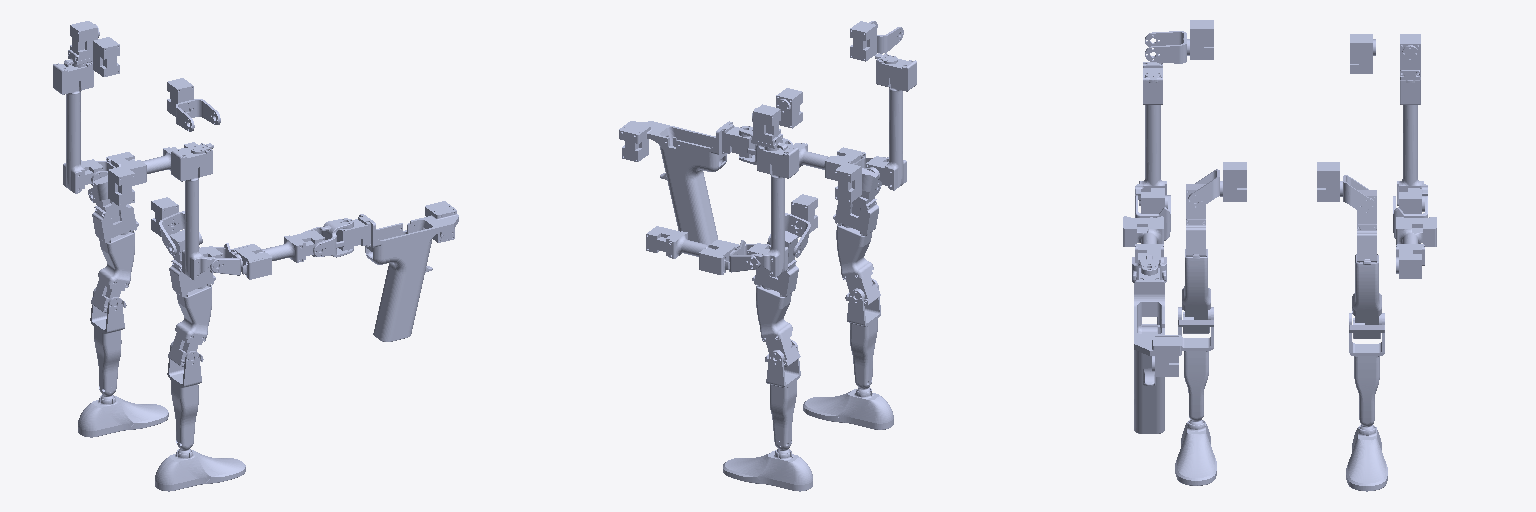
--- What the picture shows (computed from the rendered views, not written in the file) ---
Views: 3 orthographic renders of the robot side by side, from view 1: azimuth 30°, elevation 25°; view 2: azimuth 150°, elevation 25°; view 3: azimuth 270°, elevation 25°.
Model g1_Light_arm_leader with 33 links and 32 joints (24 revolute, 8 fixed), rooted at torso_link, posed all joints at 0.
Visible links, largest first — view 1: right_arm_link7, right_leg_link4, left_leg_link4, right_arm_link3, left_arm_link3, left_leg_link3, right_leg_link3, right_arm_link5, left_leg_link2, left_arm_link5, right_leg_link2, left_arm_link2 (+8 smaller); view 2: right_arm_link7, right_leg_link4, left_leg_link4, right_arm_link3, left_arm_link3, left_arm_link5, right_leg_link3, left_leg_link3, right_leg_link2, left_arm_link2, left_leg_link2, right_arm_link5 (+6 smaller); view 3: right_arm_link7, left_leg_link4, right_leg_link4, right_arm_link3, left_arm_link3, left_leg_link3, right_leg_link3, left_arm_link5, right_arm_link5, right_arm_link1, left_leg_link2, right_leg_link2 (+8 smaller).
Boxes of the visible links, box(x1,y1,x2,y2) form: right_arm_link7: box(336, 201, 458, 341); right_leg_link4: box(155, 341, 245, 491); left_leg_link4: box(78, 288, 168, 437); right_arm_link3: box(171, 143, 222, 280); left_arm_link3: box(53, 61, 103, 193); left_leg_link3: box(91, 231, 134, 312); right_leg_link3: box(168, 285, 211, 366); right_arm_link5: box(231, 230, 324, 279); left_leg_link2: box(92, 175, 138, 242); left_arm_link5: box(106, 142, 197, 185); right_leg_link2: box(169, 229, 215, 296); left_arm_link2: box(64, 21, 99, 66); right_arm_link7: box(619, 121, 754, 244); right_leg_link4: box(803, 278, 893, 429); left_leg_link4: box(723, 340, 812, 491); right_arm_link3: box(866, 53, 916, 190); left_arm_link3: box(747, 145, 798, 277); left_arm_link5: box(646, 226, 739, 274); right_leg_link3: box(836, 224, 880, 305); left_leg_link3: box(756, 285, 800, 366); right_leg_link2: box(833, 168, 878, 235); left_arm_link2: box(751, 104, 787, 150); left_leg_link2: box(752, 231, 798, 296); right_arm_link5: box(781, 139, 865, 180); right_arm_link7: box(1134, 268, 1181, 433); left_leg_link4: box(1346, 313, 1387, 491); right_leg_link4: box(1175, 307, 1216, 485); right_arm_link3: box(1135, 62, 1167, 213); left_arm_link3: box(1397, 80, 1427, 213); left_leg_link3: box(1349, 254, 1384, 338); right_leg_link3: box(1178, 249, 1213, 333); left_arm_link5: box(1396, 217, 1436, 278); right_arm_link5: box(1123, 216, 1163, 262); right_arm_link1: box(1145, 31, 1186, 63); left_leg_link2: box(1357, 190, 1376, 264); right_leg_link2: box(1186, 184, 1205, 258).
Bounding box of the posed robot: 0.3466 × 0.3078 × 0.4709 m (x, y, z).
Meshes: 25 distinct files referenced, 22 mesh visuals loaded (19 binary STL); not drawn: 7 (reference not matched to a file when rendering).

robot.urdf — g1_Light_arm_leader:
<?xml version="1.0" ?>
<!-- =================================================================================== -->
<!-- |    This document was autogenerated by xacro from g1_baby.xacro                  | -->
<!-- |    EDITING THIS FILE BY HAND IS NOT RECOMMENDED                                 | -->
<!-- =================================================================================== -->
<robot name="g1_Light_arm_leader">
	<mujoco>
		<compiler angle="radian" meshdir="../" autolimits="true" strippath="false" fusestatic="false" balanceinertia="true"/>
	</mujoco>	
  <!-- Link intertia values are incorrect for links 3 and 4 -->
  <link name="left_arm_base_link">
    <inertial>
      <origin rpy="0 0 0" xyz="0.00000000 -0.01230125 0.00718113"/>
      <mass value="0.01800000"/>
      <inertia ixx="0.00000626" ixy="0.00000000" ixz="0.00000000" iyy="0.00000323" iyz="-0.00000155" izz="0.00000412"/>
    </inertial>
    <visual>
      <origin rpy="0 0 0" xyz="0 0 0"/>
      <geometry>
        <mesh filename="assets/leaders/baby/base_link_L.STL"/>
      </geometry>
      <material name="">
        <color rgba="0.79216 0.81961 0.93333 1"/>
      </material>
    </visual>
    <collision>
      <origin rpy="0 0 0" xyz="0 0 0"/>
      <geometry>
        <mesh filename="assets/leaders/baby/base_link_L.STL"/>
      </geometry>
    </collision>
  </link>
  <link name="left_arm_link1">
    <inertial>
      <origin rpy="0 0 0" xyz="0.01387236 0.00000000 0.00000273"/>
      <mass value="0.00630282"/>
      <inertia ixx="1.16E-06" ixy="0" ixz="0" iyy="8.8E-06" iyz="0" izz="2.72E-06"/>
    </inertial>
    <visual>
      <origin rpy="0 0 0" xyz="0 0 0"/>
      <geometry>
        <mesh filename="assets/leaders/baby/g1_arm_link_1_L.STL"/>
      </geometry>
      <material name="">
        <color rgba="0.79216 0.81961 0.93333 1"/>
      </material>
    </visual>
    <collision>
      <origin rpy="0 0 0" xyz="0 0 0"/>
      <geometry>
        <mesh filename="assets/leaders/baby/g1_arm_link_1_L.STL"/>
      </geometry>
    </collision>
  </link>
  <link name="left_arm_link2">
    <inertial>
      <origin rpy="0 0 0" xyz="0 -0.00345697 -0.00992158"/>
      <mass value="0.02099123"/>
      <inertia ixx="0.00000622" ixy="0" ixz="0" iyy="0.00000544" iyz="0.00000087" izz="0.00000207"/>
    </inertial>
    <visual>
      <origin rpy="0 0 0" xyz="0 0 0"/>
      <geometry>
        <mesh filename="assets/leaders/baby/g1_arm_link_2_L.STL"/>
      </geometry>
      <material name="">
        <color rgba="0.79216 0.81961 0.93333 1"/>
      </material>
    </visual>
    <collision>
      <origin rpy="0 0 0" xyz="0 0 0"/>
      <geometry>
        <mesh filename="assets/leaders/baby/g1_arm_link_2_L.STL"/>
      </geometry>
    </collision>
  </link>
  <link name="left_arm_link3">

    <visual>
      <origin rpy="0 0 0" xyz="0 0 0"/>
      <geometry>
        <mesh filename="assets/leaders/baby/g1_arm_link_3_L.STL"/>
      </geometry>
      <material name="">
        <color rgba="0.79216 0.81961 0.93333 1"/>
      </material>
    </visual>
    <collision>
      <origin rpy="0 0 0" xyz="0 0 0"/>
      <geometry>
        <mesh filename="assets/leaders/baby/g1_arm_link_3_L.STL"/>
      </geometry>
    </collision>
  </link>
  <link name="left_arm_link4">

    <visual>
      <origin rpy="0 0 0" xyz="0 0 0"/>
      <geometry>
        <mesh filename="assets/leaders/baby/g1_arm_link_4_L.STL"/>
      </geometry>
      <material name="">
        <color rgba="0.79216 0.81961 0.93333 1"/>
      </material>
    </visual>
    <collision>
      <origin rpy="0 0 0" xyz="0 0 0"/>
      <geometry>
        <mesh filename="assets/leaders/baby/g1_arm_link_4_L.STL"/>
      </geometry>
    </collision>
  </link>
  <link name="left_arm_link5">
    <inertial>
      <origin rpy="0 0 0" xyz="0.04583889 -0.00415733 0.00000000"/>
      <mass value="0.05392167"/>
      <inertia ixx="0.00000769" ixy="-0.00000538" ixz="0.00000000" iyy="0.00017195" iyz="0.00000000" izz="0.00017659"/>
    </inertial>
    <visual>
      <origin rpy="0 0 0" xyz="0 0 0"/>
      <geometry>
        <mesh filename="assets/leaders/baby/g1_arm_link_5_L.STL"/>
      </geometry>
      <material name="">
        <color rgba="0.79216 0.81961 0.93333 1"/>
      </material>
    </visual>
    <collision>
      <origin rpy="0 0 0" xyz="0 0 0"/>
      <geometry>
        <mesh filename="assets/leaders/baby/g1_arm_link_5_L.STL"/>
      </geometry>
    </collision>
  </link>
  <link name="left_arm_link6">
    <inertial>
      <origin rpy="0 0 0" xyz="0.02038055 -0.00000138 -0.00000112"/>
      <mass value=" 0.01167564"/>
      <inertia ixx="0.00000248" ixy="0.00000000" ixz="0.00000000" iyy="0.00000737" iyz="0.00000000" izz="0.00000741"/>
    </inertial>
    <visual>
      <origin rpy="0 0 0" xyz="0 0 0"/>
      <geometry>
        <mesh filename="assets/leaders/baby/g1_arm_link_6_L.STL"/>
      </geometry>
      <material name="">
        <color rgba="0.79216 0.81961 0.93333 1"/>
      </material>
    </visual>
    <collision>
      <origin rpy="0 0 0" xyz="0 0 0"/>
      <geometry>
        <mesh filename="assets/leaders/baby/g1_arm_link_6_L.STL"/>
      </geometry>
    </collision>
  </link>
  <link name="left_arm_link7">
    <inertial>
      <origin rpy="0 0 0" xyz="0.06890215 0.00304461 -0.04175166"/>
      <mass value="0.1095606"/>
      <inertia ixx="0.00036318" ixy="0.00004247" ixz="-0.00033149" iyy="0.00105228" iyz="-0.00000788" izz="0.00072013"/>
    </inertial>
    <visual>
      <origin rpy="0 0 0" xyz="0 0 0"/>
      <geometry>
        <mesh filename="assets/leaders/baby/g1_arm_link_7_L.STL"/>
      </geometry>
      <material name="">
        <color rgba="0.79216 0.81961 0.93333 1"/>
      </material>
    </visual>
    <collision>
      <origin rpy="0 0 0" xyz="0 0 0"/>
      <geometry>
        <mesh filename="assets/leaders/baby/g1_arm_link_7_L.STL"/>
      </geometry>
    </collision>
  </link>
  
  <joint name="left_shoulder_pitch_joint" type="revolute">
    <origin rpy="0 0 -3.1415926535" xyz="0 0.026 0"/>
    <parent link="left_arm_base_link"/>
    <child link="left_arm_link1"/>
    <axis xyz="0 -1 0"/>
    <limit effort="0" lower="-3.0892" upper="2.6704" velocity="1.0"/>
  </joint>
  <joint name="left_shoulder_roll_joint" type="revolute">
    <origin rpy="0 0 3.1415926" xyz="-0.00415 -0.03339492 0"/>
    <parent link="left_arm_link1"/>
    <child link="left_arm_link2"/>
    <axis xyz="1 0 0"/>
    <limit effort="0" lower="-1.5882" upper="2.2515" velocity="1.0"/>
  </joint>
  <joint name="left_shoulder_yaw_joint" type="revolute">
    <origin rpy="0 0 0" xyz="-0.009766 0 -0.031"/>
    <parent link="left_arm_link2"/>
    <child link="left_arm_link3"/>
    <axis xyz="0 0 1"/>
    <limit effort="0" lower="-2.618" upper="2.618" velocity="1.0"/>
  </joint>
  <joint name="left_elbow_joint" type="revolute">
    <origin rpy="0 0 0" xyz="0.0142047 0 -0.1343462"/>
    <parent link="left_arm_link3"/>
    <child link="left_arm_link4"/>
    <axis xyz="0 1 0"/>
    <limit effort="0" lower="-1.0472" upper="2.0944" velocity="1.0"/>
  </joint>
  <joint name="left_wrist_roll_joint" type="revolute">
    <origin rpy="0 0 0" xyz="0.032 -0.001699119 -0.009"/>
    <parent link="left_arm_link4"/>
    <child link="left_arm_link5"/>
    <axis xyz="1 0 0"/>
    <limit effort="0" lower="-1.972222054" upper="1.972222054" velocity="1.0"/>
  </joint>
  <joint name="left_wrist_pitch_joint" type="revolute">
    <origin rpy="0 0 0" xyz="0.09205 -0.00185 0"/>
    <parent link="left_arm_link5"/>
    <child link="left_arm_link6"/>
    <axis xyz="0 1 0"/>
    <limit effort="0" lower="-1.614429558" upper="1.614429558" velocity="1.0"/>
  </joint>
  <joint name="left_wrist_yaw_joint" type="revolute">
    <origin rpy="0 0 0" xyz="0.0414 0 0.0043"/>
    <parent link="left_arm_link6"/>
    <child link="left_arm_link7"/>
    <axis xyz="0 0 1"/>
    <limit effort="0" lower="-1.614429558" upper="1.614429558" velocity="1.0"/>
  </joint>
  
  <joint name="left/gripper" type="revolute">
    <parent link="left_arm_link7"/>
    <child link="left_gripper_link"/>
    <origin rpy="0 0 -1.57" xyz="0.125 0 -0.03"/>
    <axis xyz="1 0 0"/>
    <limit effort="1" lower="-3.14159265359" upper="3.14159265359" velocity="4.8"/>
  </joint>
  <link name="left_gripper_link">
    <visual>
      <origin rpy="0 0 0" xyz="0 0 0"/>
      <geometry>
        <mesh filename="assets/leaders/baby/gripper.stl" scale="0.001 0.001 0.001"/>
      </geometry>
    </visual>
    <collision>
      <origin rpy="0 0 0" xyz="0 0 0"/>
      <geometry>
        <mesh filename="assets/leaders/baby/gripper.stl" scale="0.001 0.001 0.001"/>
      </geometry>
    </collision>
    <inertial>
      <origin xyz="-2.635467700e-04 -2.054786700e-03 -8.785326800e-03"/>
      <mass value="4.060915900e-03"/>
      <inertia ixx="7.509344100e-07" ixy="2.199112900e-09" ixz="9.402416300e-09" iyy="5.484008000e-07" iyz="-9.942781800e-08" izz="2.396226600e-07"/>
    </inertial>
  </link>
    <joint name="left_eef_joint" type="fixed">
    <parent link="left_arm_link7"/>
    <child link="left_end_effector_link"/>
    <origin rpy="0 0 0.0" xyz="0.025 0 0.00"/>
    <axis xyz="1 0 0"/>
  </joint>
  <link name="left_end_effector_link"/>
  <link name="right_arm_base_link">
    <inertial>
      <origin rpy="0 0 0" xyz="0.00000000 -0.01230125 0.00718113"/>
      <mass value="0.01800000"/>
      <inertia ixx="0.00000626" ixy="0.00000000" ixz="0.00000000" iyy="0.00000323" iyz="-0.00000155" izz="0.00000412"/>
    </inertial>
    <visual>
      <origin rpy="0 0 0" xyz="0 0 0"/>
      <geometry>
        <mesh filename="assets/leaders/baby/base_link_R.STL"/>
      </geometry>
      <material name="">
        <color rgba="0.79216 0.81961 0.93333 1"/>
      </material>
    </visual>
    <collision>
      <origin rpy="0 0 0" xyz="0 0 0"/>
      <geometry>
        <mesh filename="assets/leaders/baby/base_link_R.STL"/>
      </geometry>
    </collision>
  </link>
  <link name="right_arm_link1">
    <inertial>
      <origin rpy="0 0 0" xyz="0.01387236 0.00000000 0.00000273"/>
      <mass value="0.00630282"/>
      <inertia ixx="1.16E-06" ixy="0" ixz="0" iyy="8.8E-06" iyz="0" izz="2.72E-06"/>
    </inertial>
    <visual>
      <origin rpy="0 0 0" xyz="0 0 0"/>
      <geometry>
        <mesh filename="assets/leaders/baby/g1_arm_link_1_R.STL"/>
      </geometry>
      <material name="">
        <color rgba="0.79216 0.81961 0.93333 1"/>
      </material>
    </visual>
    <collision>
      <origin rpy="0 0 0" xyz="0 0 0"/>
      <geometry>
        <mesh filename="assets/leaders/baby/g1_arm_link_1_R.STL"/>
      </geometry>
    </collision>
  </link>
  <link name="right_arm_link2">
    <inertial>
      <origin rpy="0 0 0" xyz="0 -0.00345697 -0.00992158"/>
      <mass value="0.02099123"/>
      <inertia ixx="0.00000622" ixy="0" ixz="0" iyy="0.00000544" iyz="0.00000087" izz="0.00000207"/>
    </inertial>
    <visual>
      <origin rpy="0 0 0" xyz="0 0 0"/>
      <geometry>
        <mesh filename="assets/leaders/baby/g1_arm_link_2_R.STL"/>
      </geometry>
      <material name="">
        <color rgba="0.79216 0.81961 0.93333 1"/>
      </material>
    </visual>
    <collision>
      <origin rpy="0 0 0" xyz="0 0 0"/>
      <geometry>
        <mesh filename="assets/leaders/baby/g1_arm_link_2_R.STL"/>
      </geometry>
    </collision>
  </link>
  <link name="right_arm_link3">
    <inertial>
      <origin rpy="0 0 0" xyz="-0.00311665 0.00003705 -0.0729065"/>
      <mass value="0.06865114"/>
      <inertia ixx="0.00055336" ixy="0.00000013" ixz="0.00000199" iyy="0.00056033" iyz="0.0" izz="0.00001178"/>
    </inertial>
    <visual>
      <origin rpy="0 0 0" xyz="0 0 0"/>
      <geometry>
        <mesh filename="assets/leaders/baby/g1_arm_link_3_R.STL"/>
      </geometry>
      <material name="">
        <color rgba="0.79216 0.81961 0.93333 1"/>
      </material>
    </visual>
    <collision>
      <origin rpy="0 0 0" xyz="0 0 0"/>
      <geometry>
        <mesh filename="assets/leaders/baby/g1_arm_link_3_R.STL"/>
      </geometry>
    </collision>
  </link>
  <link name="right_arm_link4">
    <inertial>
      <origin rpy="0 0 0" xyz="0.01902443 0.00064065 -0.00588890"/>
      <mass value="0.00704644"/>
      <inertia ixx="0.00000188" ixy="0.00000012" ixz="-0.0000010" iyy="0.00000398" iyz="-0.0000000" izz="0.00000471"/>
    </inertial>
    <visual>
      <origin rpy="0 0 0" xyz="0 0 0"/>
      <geometry>
        <mesh filename="assets/leaders/baby/g1_arm_link_4_R.STL"/>
      </geometry>
      <material name="">
        <color rgba="0.79216 0.81961 0.93333 1"/>
      </material>
    </visual>
    <collision>
      <origin rpy="0 0 0" xyz="0 0 0"/>
      <geometry>
        <mesh filename="assets/leaders/baby/g1_arm_link_4_R.STL"/>
      </geometry>
    </collision>
  </link>
  <link name="right_arm_link5">
    <inertial>
      <origin rpy="0 0 0" xyz="0.04583889 -0.00415733 0.00000000"/>
      <mass value="0.05392167"/>
      <inertia ixx="0.00000769" ixy="-0.00000538" ixz="0.00000000" iyy="0.00017195" iyz="0.00000000" izz="0.00017659"/>
    </inertial>
    <visual>
      <origin rpy="0 0 0" xyz="0 0 0"/>
      <geometry>
        <mesh filename="assets/leaders/baby/g1_arm_link_5_R.STL"/>
      </geometry>
      <material name="">
        <color rgba="0.79216 0.81961 0.93333 1"/>
      </material>
    </visual>
    <collision>
      <origin rpy="0 0 0" xyz="0 0 0"/>
      <geometry>
        <mesh filename="assets/leaders/baby/g1_arm_link_5_R.STL"/>
      </geometry>
    </collision>
  </link>
  <link name="right_arm_link6">
    <inertial>
      <origin rpy="0 0 0" xyz="0.02038055 -0.00000138 -0.00000112"/>
      <mass value=" 0.01167564"/>
      <inertia ixx="0.00000248" ixy="0.00000000" ixz="0.00000000" iyy="0.00000737" iyz="0.00000000" izz="0.00000741"/>
    </inertial>
    <visual>
      <origin rpy="0 0 0" xyz="0 0 0"/>
      <geometry>
        <mesh filename="assets/leaders/baby/g1_arm_link_6_R.STL"/>
      </geometry>
      <material name="">
        <color rgba="0.79216 0.81961 0.93333 1"/>
      </material>
    </visual>
    <collision>
      <origin rpy="0 0 0" xyz="0 0 0"/>
      <geometry>
        <mesh filename="assets/leaders/baby/g1_arm_link_6_R.STL"/>
      </geometry>
    </collision>
  </link>
  <link name="right_arm_link7">
    <inertial>
      <origin rpy="0 0 0" xyz="0.06890215 0.00304461 -0.04175166"/>
      <mass value="0.1095606"/>
      <inertia ixx="0.00036318" ixy="0.00004247" ixz="-0.00033149" iyy="0.00105228" iyz="-0.00000788" izz="0.00072013"/>
    </inertial>
    <visual>
      <origin rpy="0 0 0" xyz="0 0 0"/>
      <geometry>
        <mesh filename="assets/leaders/baby/g1_arm_link_7_R.STL"/>
      </geometry>
      <material name="">
        <color rgba="0.79216 0.81961 0.93333 1"/>
      </material>
    </visual>
    <collision>
      <origin rpy="0 0 0" xyz="0 0 0"/>
      <geometry>
        <mesh filename="assets/leaders/baby/g1_arm_link_7_R.STL"/>
      </geometry>
    </collision>
  </link>
  <joint name="right_eef_joint" type="fixed">
    <parent link="right_arm_link7"/>
    <child link="right_end_effector_link"/>
    <origin rpy="0 0 0.0" xyz="0.025 0 0.00"/>
    <axis xyz="1 0 0"/>
  </joint>
  <link name="right_end_effector_link"/>
  
  <joint name="right/gripper" type="revolute">
    <parent link="right_arm_link7"/>
    <child link="right_gripper_link"/>
    <origin rpy="0 0 -1.57" xyz="0.125 0 -0.03"/>
    <axis xyz="1 0 0"/>
    <limit effort="1" lower="-3.14159265359" upper="3.14159265359" velocity="4.8"/>
  </joint>
  <link name="right_gripper_link">
    <visual>
      <origin rpy="0 0 0" xyz="0 0 0"/>
      <geometry>
        <mesh filename="assets/leaders/baby/gripper.stl" scale="0.001 0.001 0.001"/>
      </geometry>
    </visual>
    <collision>
      <origin rpy="0 0 0" xyz="0 0 0"/>
      <geometry>
        <mesh filename="assets/leaders/baby/gripper.stl" scale="0.001 0.001 0.001"/>
      </geometry>
    </collision>
    <inertial>
      <origin xyz="-2.635467700e-04 -2.054786700e-03 -8.785326800e-03"/>
      <mass value="4.060915900e-03"/>
      <inertia ixx="7.509344100e-07" ixy="2.199112900e-09" ixz="9.402416300e-09" iyy="5.484008000e-07" iyz="-9.942781800e-08" izz="2.396226600e-07"/>
    </inertial>
  </link>
 
  <joint name="right_shoulder_pitch_joint" type="revolute">
    <origin rpy="0 0 0" xyz="0 -0.026 0"/>
    <parent link="right_arm_base_link"/>
    <child link="right_arm_link1"/>
    <axis xyz="0 1 0"/>
    <limit effort="0" lower="-3.0892" upper="2.6704" velocity="1.0"/>
  </joint>
  <joint name="right_shoulder_roll_joint" type="revolute">
    <origin rpy="0 0 0" xyz="0.00415 -0.03339492 0"/>
    <parent link="right_arm_link1"/>
    <child link="right_arm_link2"/>
    <axis xyz="1 0 0"/>
    <limit effort="0" lower="-2.2515" upper="1.5882" velocity="1.0"/>
  </joint>
  <joint name="right_shoulder_yaw_joint" type="revolute">
    <origin rpy="0 0 0" xyz="-0.009766 0 -0.031"/>
    <parent link="right_arm_link2"/>
    <child link="right_arm_link3"/>
    <axis xyz="0 0 1"/>
    <limit effort="0" lower="-2.618" upper="2.618" velocity="1.0"/>
  </joint>
  <joint name="right_elbow_joint" type="revolute">
    <origin rpy="0 0 0" xyz="0.0142047 0 -0.1343462"/>
    <parent link="right_arm_link3"/>
    <child link="right_arm_link4"/>
    <axis xyz="0 1 0"/>
    <limit effort="0" lower="-1.0472" upper="2.0944" velocity="1.0"/>
  </joint>
  <joint name="right_wrist_roll_joint" type="revolute">
    <origin rpy="0 0 0" xyz="0.032 -0.001699119 -0.009"/>
    <parent link="right_arm_link4"/>
    <child link="right_arm_link5"/>
    <axis xyz="1 0 0"/>
    <limit effort="0" lower="-1.972222054" upper="1.972222054" velocity="1.0"/>
  </joint>
  <joint name="right_wrist_pitch_joint" type="revolute">
    <origin rpy="0 0 0" xyz="0.09205 -0.00185 0"/>
    <parent link="right_arm_link5"/>
    <child link="right_arm_link6"/>
    <axis xyz="0 1 0"/>
    <limit effort="0" lower="-1.614429558" upper="1.614429558" velocity="1.0"/>
  </joint>
  <joint name="right_wrist_yaw_joint" type="revolute">
    <origin rpy="0 0 0" xyz="0.0414 0 0.0043"/>
    <parent link="right_arm_link6"/>
    <child link="right_arm_link7"/>
    <axis xyz="0 0 1"/>
    <limit effort="0" lower="-1.614429558" upper="1.614429558" velocity="1.0"/>
  </joint>
  <link name="left_leg_base_link">
    <inertial>
      <origin rpy="0 0 0" xyz="0.00000000 0.00319875 0.00118113"/>
      <mass value="0.01800000"/>
      <inertia ixx="0.00000281" ixy="0.00000000" ixz="0.00000000" iyy="0.00000233" iyz="0.00000011" izz="0.00000158"/>
    </inertial>
    <visual>
      <origin rpy="0 0 0" xyz="0 0 0"/>
      <geometry>
        <mesh filename="assets/leaders/baby/g1_leg_base_link_L.STL"/>
      </geometry>
      <material name="">
        <color rgba="0.79216 0.81961 0.93333 1"/>
      </material>
    </visual>
    <collision>
      <origin rpy="0 0 0" xyz="0 0 0"/>
      <geometry>
        <mesh filename="assets/leaders/baby/g1_leg_base_link_L.STL"/>
      </geometry>
    </collision>
  </link>
  <link name="left_leg_link1">
    <inertial>
      <origin rpy="0 0 0" xyz="0.01016296 0.00000000 -0.00475105"/>
      <mass value="0.00543603"/>
      <inertia ixx="0.00000145" ixy="0.00000000" ixz="-0.00000050" iyy="0.00000142" iyz="0.00000000" izz="0.00000201"/>
    </inertial>
    <visual>
      <origin rpy="0 0 0" xyz="0 0 0"/>
      <geometry>
        <mesh filename="assets/leaders/baby/g1_leg_link_1_L.STL"/>
      </geometry>
      <material name="">
        <color rgba="0.79216 0.81961 0.93333 1"/>
      </material>
    </visual>
    <collision>
      <origin rpy="0 0 0" xyz="0 0 0"/>
      <geometry>
        <mesh filename="assets/leaders/baby/g1_leg_link_1_L.STL"/>
      </geometry>
    </collision>
  </link>
  <link name="left_leg_link2">
    <inertial>
      <origin rpy="0 0 0" xyz="-0.00272858 0.00000000 -0.02683543"/>
      <mass value=" 0.04516848"/>
      <inertia ixx="0.00004938" ixy="0.00000000" ixz="0.00000294" iyy="0.00005307" iyz="0.00000000" izz="0.00000644"/>
    </inertial>
    <visual>
      <origin rpy="0 0 0" xyz="0 0 0"/>
      <geometry>
        <mesh filename="assets/leaders/baby/g1_leg_link_2.STL"/>
      </geometry>
      <material name="">
        <color rgba="0.79216 0.81961 0.93333 1"/>
      </material>
    </visual>
    <collision>
      <origin rpy="0 0 0" xyz="0 0 0"/>
      <geometry>
        <mesh filename="assets/leaders/baby/g1_leg_link_2.STL"/>
      </geometry>
    </collision>
  </link>
  <link name="left_leg_link3">
    <inertial>
      <origin rpy="0 0 0" xyz="-0.01621315 0.00022419 -0.04019605"/>
      <mass value=" 0.06431956"/>
      <inertia ixx="0.00014459" ixy="-0.00000042" ixz="0.00005475" iyy="0.00016734" iyz="-0.00000097" izz="0.00002911"/>
    </inertial>
    <visual>
      <origin rpy="0 0 0" xyz="0 0 0"/>
      <geometry>
        <mesh filename="assets/leaders/baby/g1_leg_link_3.STL"/>
      </geometry>
      <material name="">
        <color rgba="0.79216 0.81961 0.93333 1"/>
      </material>
    </visual>
    <collision>
      <origin rpy="0 0 0" xyz="0 0 0"/>
      <geometry>
        <mesh filename="assets/leaders/baby/g1_leg_link_3.STL"/>
      </geometry>
    </collision>
  </link>
  <link name="left_leg_link4">
    <inertial>
      <origin rpy="0 0 0" xyz="0.00853367 0.00001551 -0.11066266"/>
      <mass value="0.12585466"/>
      <inertia ixx="0.00178709" ixy="0.00000002" ixz="-0.00015479" iyy="0.00184613" iyz="-0.00000026" izz="0.00007683"/>
    </inertial>
    <visual>
      <origin rpy="0 0 0" xyz="0 0 0"/>
      <geometry>
        <mesh filename="assets/leaders/baby/g1_leg_link_4.STL"/>
      </geometry>
      <material name="">
        <color rgba="0.79216 0.81961 0.93333 1"/>
      </material>
    </visual>
    <collision>
      <origin rpy="0 0 0" xyz="0 0 0"/>
      <geometry>
        <mesh filename="assets/leaders/baby/g1_leg_link_4.STL"/>
      </geometry>
    </collision>
  </link>
  <joint name="left_hip_pitch_joint" type="revolute">
    <origin rpy="0 0 0" xyz="0 0.0105 0"/>
    <parent link="left_leg_base_link"/>
    <child link="left_leg_link1"/>
    <axis xyz="0 1 0"/>
    <limit effort="0" lower="-2.5307" upper="2.8798" velocity="1.0"/>
  </joint>
  <joint name="left_hip_roll_joint" type="revolute">
    <origin rpy="0 -0.1749 0" xyz="0.00845606 0.0234 -0.01150819"/>
    <parent link="left_leg_link1"/>
    <child link="left_leg_link2"/>
    <axis xyz="1 0 0"/>
    <limit effort="0" lower="-0.5236" upper="2.9671" velocity="1.0"/>
  </joint>
  <joint name="left_hip_yaw_joint" type="revolute">
    <origin rpy="0 0 0" xyz="0.00486790801 0 -0.055854"/>
    <parent link="left_leg_link2"/>
    <child link="left_leg_link3"/>
    <axis xyz="0 0 1"/>
    <limit effort="0" lower="-2.7576" upper="2.7576" velocity="1.0"/>
  </joint>
  <joint name="left_knee_joint" type="revolute">
    <origin rpy="0 0.1749 0" xyz="-0.0313092 0 -0.070936"/>
    <parent link="left_leg_link3"/>
    <child link="left_leg_link4"/>
    <axis xyz="0 1 0"/>
    <limit effort="0" lower="-0.087267" upper="2.8798" velocity="1.0"/>
  </joint>
  
  <joint name="left_ankle_joint" type="fixed">
    <origin rpy="0 0 0" xyz="0.0 0 -0.120"/>
    <parent link="left_leg_link4"/>
    <child link="left_ankle_link"/>
    <axis xyz="0 1 0"/>
  </joint>
  <link name="left_ankle_link"/>
  
  <link name="right_leg_base_link">
    <inertial>
      <origin rpy="0 0 0" xyz="0.00000000 0.00319875 0.00118113"/>
      <mass value="0.01800000"/>
      <inertia ixx="0.00000281" ixy="0.00000000" ixz="0.00000000" iyy="0.00000233" iyz="0.00000011" izz="0.00000158"/>
    </inertial>
    <visual>
      <origin rpy="0 0 0" xyz="0 0 0"/>
      <geometry>
        <mesh filename="assets/leaders/baby/g1_leg_base_link.STL"/>
      </geometry>
      <material name="">
        <color rgba="0.79216 0.81961 0.93333 1"/>
      </material>
    </visual>
    <collision>
      <origin rpy="0 0 0" xyz="0 0 0"/>
      <geometry>
        <mesh filename="assets/leaders/baby/g1_leg_base_link.STL"/>
      </geometry>
    </collision>
  </link>
  <link name="right_leg_link1">
    <inertial>
      <origin rpy="0 0 0" xyz="0.01016296 0.00000000 -0.00475105"/>
      <mass value="0.00543603"/>
      <inertia ixx="0.00000145" ixy="0.00000000" ixz="-0.00000050" iyy="0.00000142" iyz="0.00000000" izz="0.00000201"/>
    </inertial>
    <visual>
      <origin rpy="0 0 0" xyz="0 0 0"/>
      <geometry>
        <mesh filename="assets/leaders/baby/g1_leg_link_1.STL"/>
      </geometry>
      <material name="">
        <color rgba="0.79216 0.81961 0.93333 1"/>
      </material>
    </visual>
    <collision>
      <origin rpy="0 0 0" xyz="0 0 0"/>
      <geometry>
        <mesh filename="assets/leaders/baby/g1_leg_link_1.STL"/>
      </geometry>
    </collision>
  </link>
  <link name="right_leg_link2">
    <inertial>
      <origin rpy="0 0 0" xyz="-0.00272858 0.00000000 -0.02683543"/>
      <mass value=" 0.04516848"/>
      <inertia ixx="0.00004938" ixy="0.00000000" ixz="0.00000294" iyy="0.00005307" iyz="0.00000000" izz="0.00000644"/>
    </inertial>
    <visual>
      <origin rpy="0 0 0" xyz="0 0 0"/>
      <geometry>
        <mesh filename="assets/leaders/baby/g1_leg_link_2.STL"/>
      </geometry>
      <material name="">
        <color rgba="0.79216 0.81961 0.93333 1"/>
      </material>
    </visual>
    <collision>
      <origin rpy="0 0 0" xyz="0 0 0"/>
      <geometry>
        <mesh filename="assets/leaders/baby/g1_leg_link_2.STL"/>
      </geometry>
    </collision>
  </link>
  <link name="right_leg_link3">
    <inertial>
      <origin rpy="0 0 0" xyz="-0.01621315 0.00022419 -0.04019605"/>
      <mass value=" 0.06431956"/>
      <inertia ixx="0.00014459" ixy="-0.00000042" ixz="0.00005475" iyy="0.00016734" iyz="-0.00000097" izz="0.00002911"/>
    </inertial>
    <visual>
      <origin rpy="0 0 0" xyz="0 0 0"/>
      <geometry>
        <mesh filename="assets/leaders/baby/g1_leg_link_3.STL"/>
      </geometry>
      <material name="">
        <color rgba="0.79216 0.81961 0.93333 1"/>
      </material>
    </visual>
    <collision>
      <origin rpy="0 0 0" xyz="0 0 0"/>
      <geometry>
        <mesh filename="assets/leaders/baby/g1_leg_link_3.STL"/>
      </geometry>
    </collision>
  </link>
  <link name="right_leg_link4">
    <inertial>
      <origin rpy="0 0 0" xyz="0.00853367 0.00001551 -0.11066266"/>
      <mass value="0.12585466"/>
      <inertia ixx="0.00178709" ixy="0.00000002" ixz="-0.00015479" iyy="0.00184613" iyz="-0.00000026" izz="0.00007683"/>
    </inertial>
    <visual>
      <origin rpy="0 0 0" xyz="0 0 0"/>
      <geometry>
        <mesh filename="assets/leaders/baby/g1_leg_link_4.STL"/>
      </geometry>
      <material name="">
        <color rgba="0.79216 0.81961 0.93333 1"/>
      </material>
    </visual>
    <collision>
      <origin rpy="0 0 0" xyz="0 0 0"/>
      <geometry>
        <mesh filename="assets/leaders/baby/g1_leg_link_4.STL"/>
      </geometry>
    </collision>
  </link>
  <joint name="right_hip_pitch_joint" type="revolute">
    <origin rpy="0 0 0" xyz="0 -0.0106 0"/>
    <parent link="right_leg_base_link"/>
    <child link="right_leg_link1"/>
    <axis xyz="0 1 0"/>
    <limit effort="0" lower="-2.5307" upper="2.8798" velocity="1.0"/>
  </joint>
  <joint name="right_hip_roll_joint" type="revolute">
    <origin rpy="0 -0.1749 0" xyz="0.006324517 -0.0234 -0.01280406227"/>
    <parent link="right_leg_link1"/>
    <child link="right_leg_link2"/>
    <axis xyz="1 0 0"/>
    <limit effort="0" lower="-2.9671" upper="0.5236" velocity="1.0"/>
  </joint>
  <joint name="right_hip_yaw_joint" type="revolute">
    <origin rpy="0 0 0" xyz="0.00486790801 0 -0.055854"/>
    <parent link="right_leg_link2"/>
    <child link="right_leg_link3"/>
    <axis xyz="0 0 1"/>
    <limit effort="0" lower="-2.7576" upper="2.7576" velocity="1.0"/>
  </joint>
  <joint name="right_knee_joint" type="revolute">
    <origin rpy="0 0.1749 0" xyz="-0.0313092 0 -0.070936"/>
    <parent link="right_leg_link3"/>
    <child link="right_leg_link4"/>
    <axis xyz="0 1 0"/>
    <limit effort="0" lower="-0.087267" upper="2.8798" velocity="1.0"/>
  </joint>
  
  <joint name="right_ankle_joint" type="fixed">
    <origin rpy="0 0 0" xyz="0.0 0 -0.120"/>
    <parent link="right_leg_link4"/>
    <child link="right_ankle_link"/>
    <axis xyz="0 1 0"/>
  </joint>
  <link name="right_ankle_link"/>
  
  
  <!-- Link intertia values are incorrect for links 3 and 4 -->
  <link name="torso_link">
    <inertial>
      <origin rpy="0 0 0" xyz="-0.00000241 0.00000895 0.00679686"/>
      <mass value="0.69622769"/>
      <inertia ixx="0.00785059" ixy="0.00000220" ixz="0.00001212" iyy="0.00639537" iyz="-0.00002276" izz="0.00283396"/>
    </inertial>
    <visual>
      <origin rpy="0 0 0" xyz="0 0 0"/>
      <geometry>
        <mesh filename="assets/leaders/baby/torso.stl"/>
      </geometry>
      <material name="">
        <color rgba="0.79216 0.81961 0.93333 1"/>
      </material>
    </visual>
    <collision>
      <origin rpy="0 0 0" xyz="0 0 0"/>
      <geometry>
        <mesh filename="assets/leaders/baby/torso_simple.stl"/>
      </geometry>
    </collision>
  </link>
  <joint name="joint1" type="fixed">
    <origin rpy="0 0 0" xyz="0.000125 -0.067 0.0308"/>
    <parent link="torso_link"/>
    <child link="right_arm_base_link"/>
  </joint>
  <joint name="joint2" type="fixed">
    <origin rpy="0 0 0" xyz="0.000125 0.067 0.0306"/>
    <parent link="torso_link"/>
    <child link="left_arm_base_link"/>
  </joint>
  <joint name="joint3" type="fixed">
    <origin rpy="0 0 0" xyz="0.000125 -0.050 -0.1164"/>
    <parent link="torso_link"/>
    <child link="right_leg_base_link"/>
  </joint>
  <joint name="joint4" type="fixed">
    <origin rpy="0 0 0" xyz="0.000125 0.050 -0.1226"/>
    <parent link="torso_link"/>
    <child link="left_leg_base_link"/>
  </joint>
</robot>
